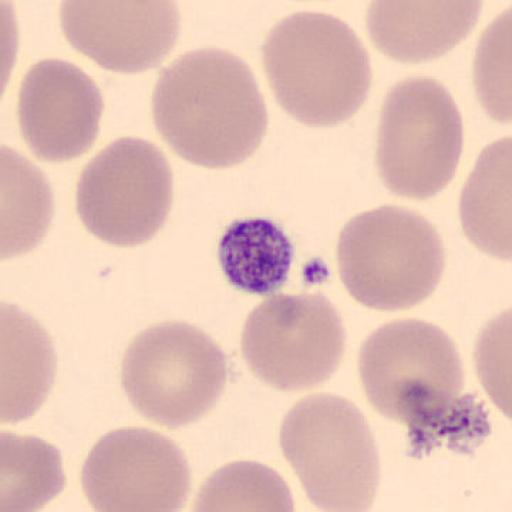Platelet: (214, 213, 298, 298)
RBC: (150, 45, 270, 172), (259, 8, 374, 130), (278, 389, 383, 511), (334, 202, 447, 314), (119, 319, 228, 430), (357, 315, 466, 425), (74, 133, 175, 249), (238, 288, 348, 393), (374, 76, 465, 202), (79, 424, 194, 512), (16, 56, 105, 164), (58, 0, 182, 76), (363, 0, 485, 66), (458, 132, 512, 264), (2, 301, 58, 425), (2, 145, 56, 261), (186, 457, 298, 512), (1, 430, 67, 512), (472, 4, 512, 129), (472, 304, 512, 424), (0, 0, 21, 103), (0, 0, 20, 73)
